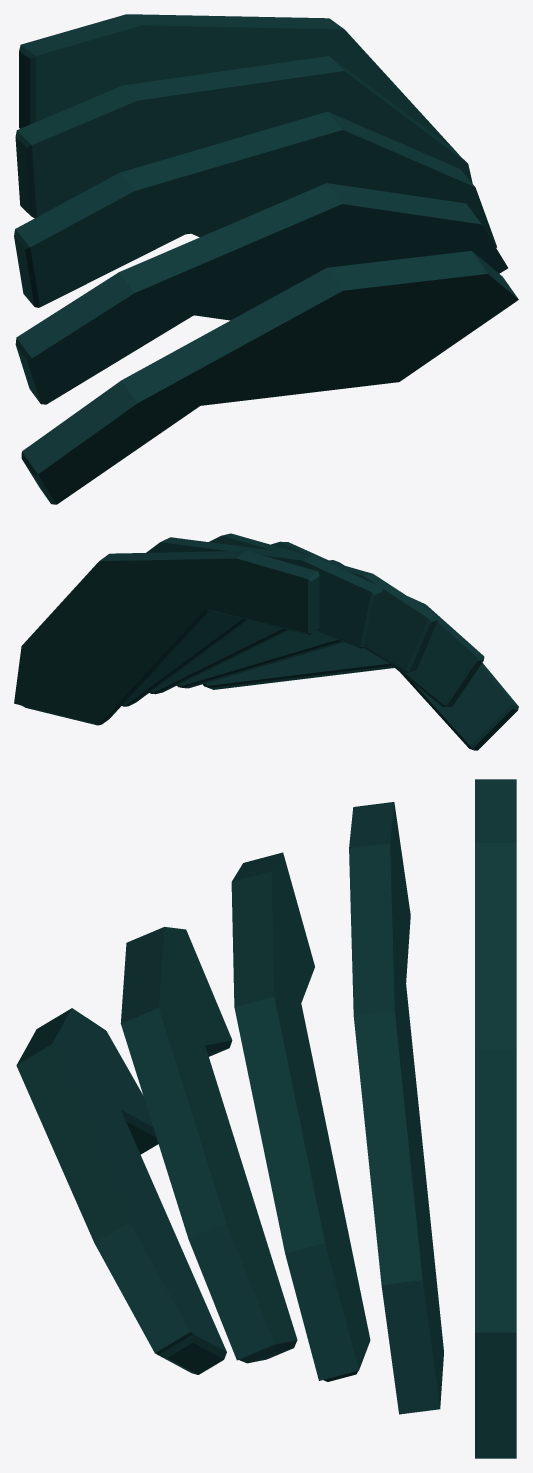
File: roofblocks.fbx
The picture shows the model from 3 angles, top to bottom: view 1: azimuth 30°, elevation 25°; view 2: azimuth 150°, elevation 25°; view 3: azimuth 270°, elevation 25°; orthographic projection. The views are drawn at different scales.
Parts seen in each view (by area): view 1: roof_blocks; view 2: roof_blocks; view 3: roof_blocks.
Part boxes in pixels (x1=…): roof_blocks: x1=14, y1=14, x2=518, y2=504; roof_blocks: x1=14, y1=533, x2=518, y2=750; roof_blocks: x1=16, y1=779, x2=516, y2=1458.
Bounding box in the file's own units: 4407 × 2409 × 2409.
